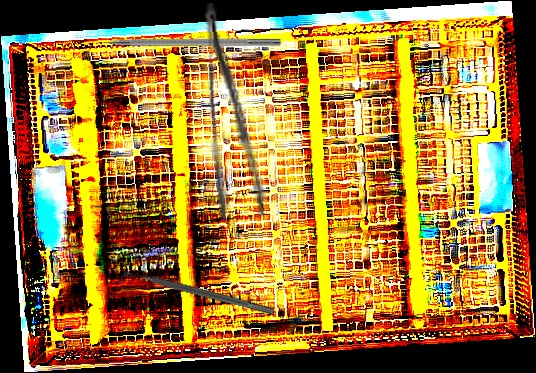Dressing Forceps: (201, 0, 268, 221)
Fixation Ring: (115, 261, 277, 324)
Hook Surgical: (77, 37, 281, 47)
